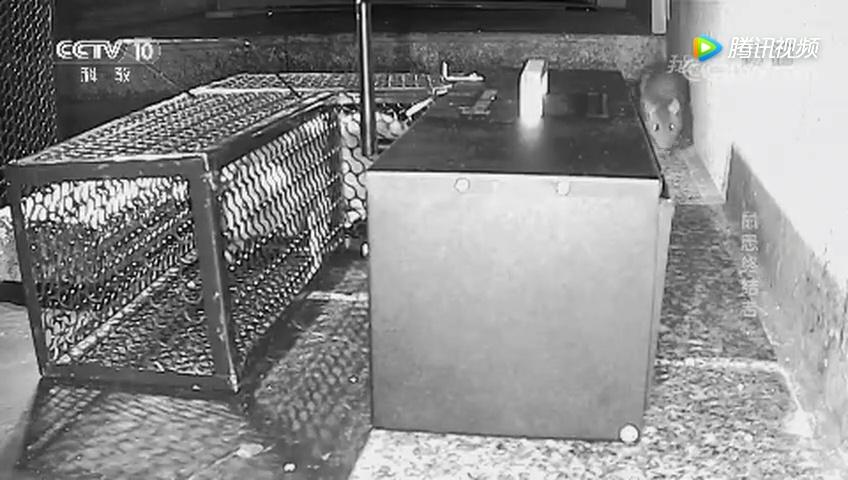rat: (635, 55, 693, 151)
